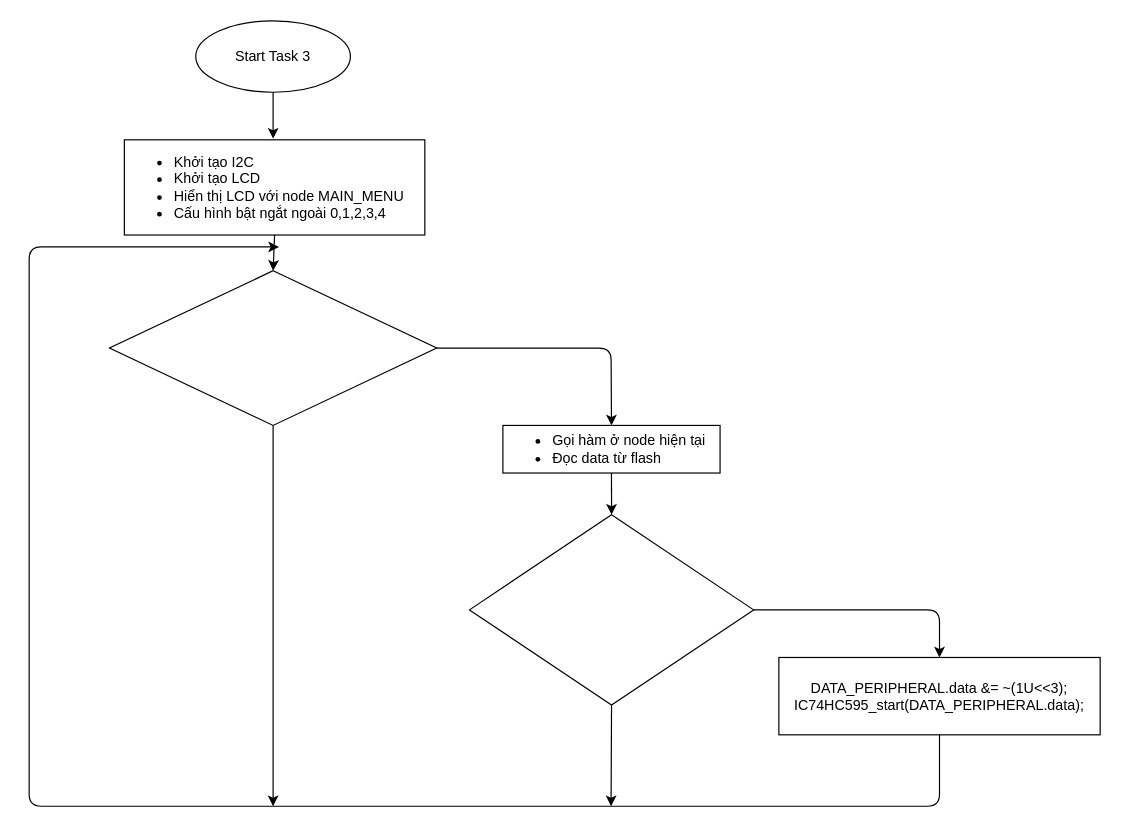
Some shapes in this 1121 by 837 pixel diagram are drawn without their labels. Each missing label, with the centre of its shape:
"data_dht11.nhiet_do_in > data_thresold.THRESOLD_TEM_VAL" goes at point (611, 609).
"MENU_ACTIVE->my_active_1[0] != NULL" goes at point (272, 347).
